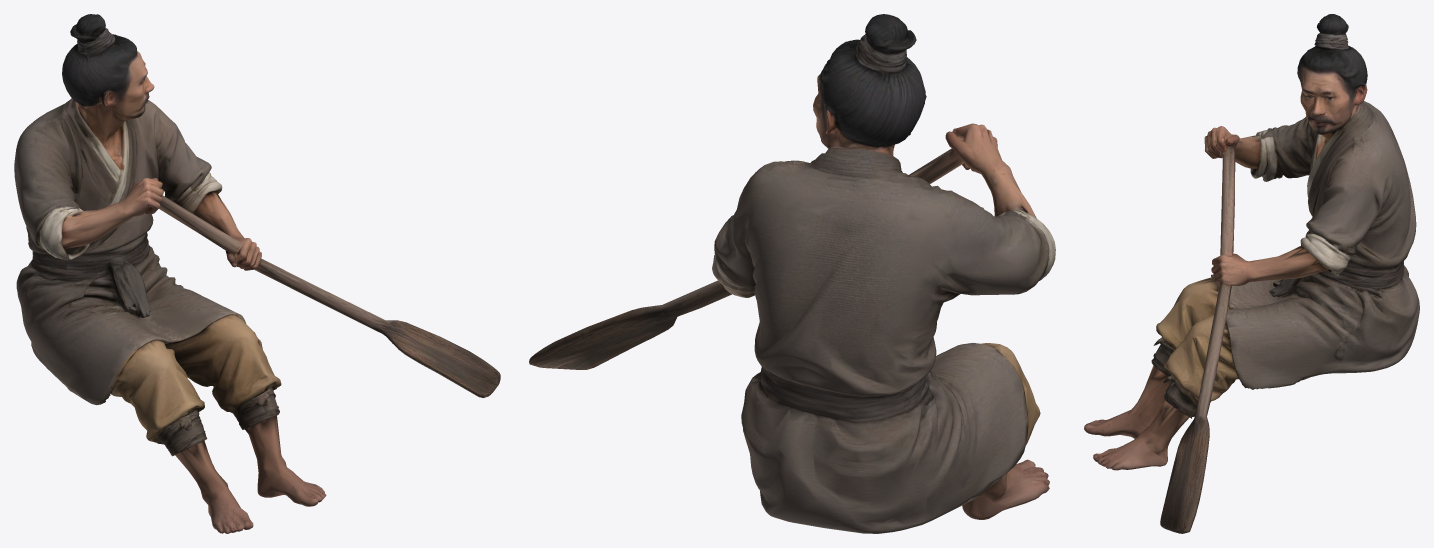
Rendered from rower_web.glb.
3 renders of one model, left to right at view 1: azimuth 30°, elevation 25°; view 2: azimuth 150°, elevation 25°; view 3: azimuth 270°, elevation 25°, orthographic. The views are drawn at different scales.
Visible parts, largest first — view 1: node_0; view 2: node_0; view 3: node_0.
Part boxes in pixels (left/top/right/bottom): node_0: left=14, top=14, right=500, bottom=533; node_0: left=529, top=14, right=1055, bottom=533; node_0: left=1084, top=14, right=1419, bottom=533.
Size of the model in its own units: 0.9183 by 0.918 by 0.676.
Materials: 1 (1 with a texture image).
